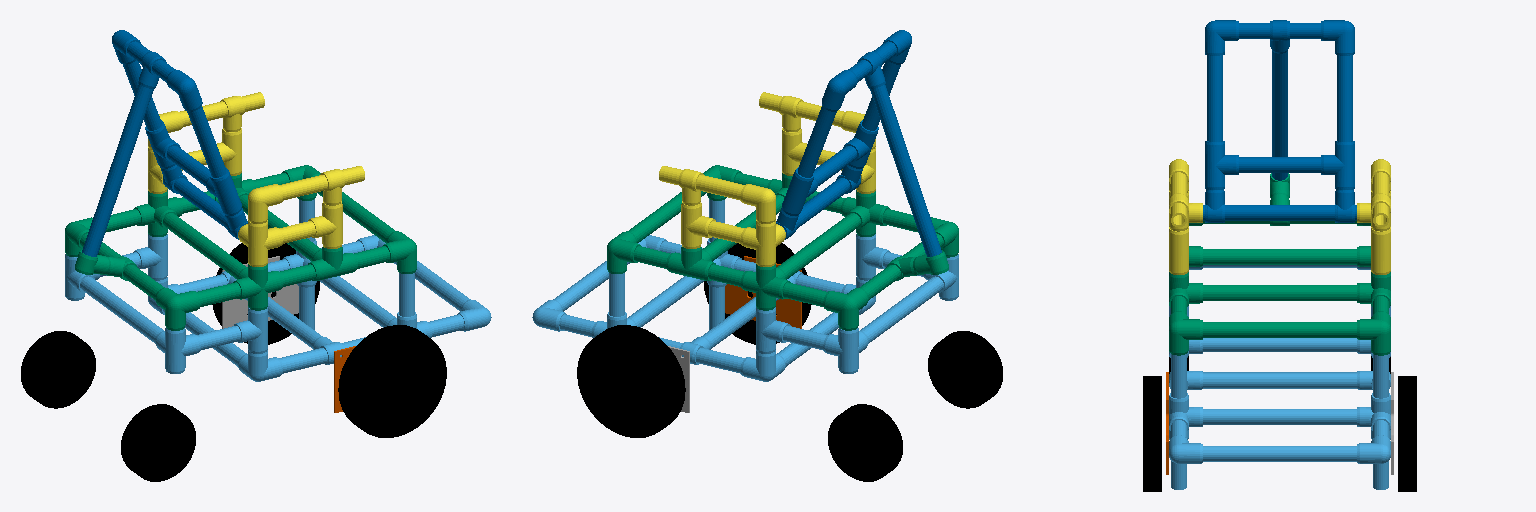
--- Render facts (derived) ---
The picture shows the robot from 3 angles, left to right: view 1: azimuth 30°, elevation 25°; view 2: azimuth 150°, elevation 25°; view 3: azimuth 270°, elevation 25°; orthographic projection.
Model pvcchair with 15 links and 14 joints (6 continuous, 8 fixed), rooted at base_footprint, posed every joint at zero.
Links seen in each view (by area): view 1: base_link, seat_link, back_link, wheel_right, arms_link, caster_right, caster_left, gearbox_plate_left, wheel_left, gearbox_plate_right; view 2: base_link, seat_link, back_link, wheel_left, arms_link, caster_left, caster_right, gearbox_plate_right, wheel_right, gearbox_plate_left; view 3: base_link, back_link, seat_link, arms_link, wheel_right, wheel_left.
Link boxes in pixels (x1,y1,x2,y2): base_link: (65, 199, 491, 381); seat_link: (65, 165, 416, 330); back_link: (82, 30, 247, 256); wheel_right: (338, 325, 446, 437); arms_link: (148, 92, 364, 266); caster_right: (121, 404, 195, 481); caster_left: (21, 331, 95, 408); gearbox_plate_left: (222, 256, 298, 328); wheel_left: (212, 243, 319, 344); gearbox_plate_right: (334, 346, 355, 412); base_link: (532, 199, 958, 381); seat_link: (607, 165, 958, 330); back_link: (776, 30, 941, 256); wheel_left: (577, 325, 685, 437); arms_link: (659, 92, 875, 266); caster_left: (828, 404, 902, 481); caster_right: (928, 331, 1002, 408); gearbox_plate_right: (725, 256, 801, 328); wheel_right: (704, 243, 811, 344); gearbox_plate_left: (668, 346, 689, 412); base_link: (1169, 265, 1390, 489); back_link: (1203, 20, 1356, 222); seat_link: (1169, 173, 1390, 355); arms_link: (1169, 159, 1390, 274); wheel_right: (1143, 376, 1161, 491); wheel_left: (1398, 376, 1416, 491).
Size in the robot's own frame: 0.5602 by 0.3621 by 0.5511 metres.
Meshes: 16 distinct files referenced, 91 mesh visuals loaded (16 Collada DAE).

The robot description file, URDF, robot "pvcchair":
<?xml version="1.0" ?>
<!-- =================================================================================== -->
<!-- |    This document was autogenerated by xacro from [local-path]/pvc-powerchair/software/ros/src/pvcchair_description/urdf/pvcchair.urdf.xacro | -->
<!-- |    EDITING THIS FILE BY HAND IS NOT RECOMMENDED                                 | -->
<!-- =================================================================================== -->
<robot name="pvcchair" xmlns:xacro="http://www.ros.org/wiki/xacro">
  <link name="base_footprint"/>
  <!-- <xacro:property name="gearbox_plate_mesh">
    <mesh filename="package://pvcchair_description/meshes/wheel.dae" />
  </xacro:property> -->
  <!-- <xacro:property name="gearbox_plate_mesh">
    <mesh filename="package://pvcchair_description/meshes/caster.dae" />
  </xacro:property> -->
  <link name="base_link">
    <inertial>
      <mass value="0.045937"/>
      <origin xyz="0 0 0"/>
      <inertia ixx="0.000160" ixy="0.000000" ixz="0.000000" iyy="0.000004" iyz="0.000000" izz="0.000160"/>
    </inertial>
    <visual>
      <origin rpy="0 1.57079632679 1.57079632679" xyz="0 0 0"/>
      <geometry>
        <mesh filename="package://pvcchair_description/meshes/piping/p2_front_n_back_base.dae"/>
      </geometry>
    </visual>
    <collision>
      <origin rpy="0 1.57079632679 1.57079632679" xyz="0 0 0"/>
      <geometry>
        <mesh filename="package://pvcchair_description/meshes/piping/p2_front_n_back_base.dae"/>
      </geometry>
    </collision>
    <visual>
      <origin rpy="0 1.57079632679 0" xyz="0 -0.13335 0"/>
      <geometry>
        <mesh filename="package://pvcchair_description/meshes/connectors/cf_3_way_slip.dae"/>
      </geometry>
    </visual>
    <collision>
      <origin rpy="0 1.57079632679 0" xyz="0 -0.13335 0"/>
      <geometry>
        <mesh filename="package://pvcchair_description/meshes/connectors/cf_3_way_slip.dae"/>
      </geometry>
    </collision>
    <visual>
      <origin rpy="0 1.57079632679 3.14159265359" xyz="0 0.13335 0"/>
      <geometry>
        <mesh filename="package://pvcchair_description/meshes/connectors/cf_3_way_slip.dae"/>
      </geometry>
    </visual>
    <collision>
      <origin rpy="0 1.57079632679 3.14159265359" xyz="0 0.13335 0"/>
      <geometry>
        <mesh filename="package://pvcchair_description/meshes/connectors/cf_3_way_slip.dae"/>
      </geometry>
    </collision>
    <visual>
      <origin rpy="0 1.57079632679 0" xyz="0 -0.13335 0"/>
      <geometry>
        <mesh filename="package://pvcchair_description/meshes/piping/p1_left_n_right_base.dae"/>
      </geometry>
    </visual>
    <collision>
      <origin rpy="0 1.57079632679 0" xyz="0 -0.13335 0"/>
      <geometry>
        <mesh filename="package://pvcchair_description/meshes/piping/p1_left_n_right_base.dae"/>
      </geometry>
    </collision>
    <visual>
      <origin rpy="0 1.57079632679 0" xyz="0 0.13335 0"/>
      <geometry>
        <mesh filename="package://pvcchair_description/meshes/piping/p1_left_n_right_base.dae"/>
      </geometry>
    </visual>
    <collision>
      <origin rpy="0 1.57079632679 0" xyz="0 0.13335 0"/>
      <geometry>
        <mesh filename="package://pvcchair_description/meshes/piping/p1_left_n_right_base.dae"/>
      </geometry>
    </collision>
    <visual>
      <origin rpy="0 0 -1.57079632679" xyz="0.1143 -0.13335 0"/>
      <geometry>
        <mesh filename="package://pvcchair_description/meshes/connectors/cb_5_way_t_connect.dae"/>
      </geometry>
    </visual>
    <collision>
      <origin rpy="0 0 -1.57079632679" xyz="0.1143 -0.13335 0"/>
      <geometry>
        <mesh filename="package://pvcchair_description/meshes/connectors/cb_5_way_t_connect.dae"/>
      </geometry>
    </collision>
    <visual>
      <origin rpy="0 0 1.57079632679" xyz="0.1143 0.13335 0"/>
      <geometry>
        <mesh filename="package://pvcchair_description/meshes/connectors/cb_5_way_t_connect.dae"/>
      </geometry>
    </visual>
    <collision>
      <origin rpy="0 0 1.57079632679" xyz="0.1143 0.13335 0"/>
      <geometry>
        <mesh filename="package://pvcchair_description/meshes/connectors/cb_5_way_t_connect.dae"/>
      </geometry>
    </collision>
    <visual>
      <origin rpy="0 1.57079632679 1.57079632679" xyz="0.1143 0 0"/>
      <geometry>
        <mesh filename="package://pvcchair_description/meshes/piping/p2_front_n_back_base.dae"/>
      </geometry>
    </visual>
    <collision>
      <origin rpy="0 1.57079632679 1.57079632679" xyz="0.1143 0 0"/>
      <geometry>
        <mesh filename="package://pvcchair_description/meshes/piping/p2_front_n_back_base.dae"/>
      </geometry>
    </collision>
    <visual>
      <origin rpy="0 0 0" xyz="0.1143 -0.13335 0.0635"/>
      <geometry>
        <mesh filename="package://pvcchair_description/meshes/piping/p3_left_n_right_back_upright.dae"/>
      </geometry>
    </visual>
    <collision>
      <origin rpy="0 0 0" xyz="0.1143 -0.13335 0.0635"/>
      <geometry>
        <mesh filename="package://pvcchair_description/meshes/piping/p3_left_n_right_back_upright.dae"/>
      </geometry>
    </collision>
    <visual>
      <origin rpy="0 0 0" xyz="0.1143 0.13335 0.0635"/>
      <geometry>
        <mesh filename="package://pvcchair_description/meshes/piping/p3_left_n_right_back_upright.dae"/>
      </geometry>
    </visual>
    <collision>
      <origin rpy="0 0 0" xyz="0.1143 0.13335 0.0635"/>
      <geometry>
        <mesh filename="package://pvcchair_description/meshes/piping/p3_left_n_right_back_upright.dae"/>
      </geometry>
    </collision>
    <visual>
      <origin rpy="0 0 0" xyz="0.1143 -0.13335 -0.05715"/>
      <geometry>
        <mesh filename="package://pvcchair_description/meshes/piping/p4_footrest_base.dae"/>
      </geometry>
    </visual>
    <collision>
      <origin rpy="0 0 0" xyz="0.1143 -0.13335 -0.05715"/>
      <geometry>
        <mesh filename="package://pvcchair_description/meshes/piping/p4_footrest_base.dae"/>
      </geometry>
    </collision>
    <visual>
      <origin rpy="0 0 0" xyz="0.1143 0.13335 -0.05715"/>
      <geometry>
        <mesh filename="package://pvcchair_description/meshes/piping/p4_footrest_base.dae"/>
      </geometry>
    </visual>
    <collision>
      <origin rpy="0 0 0" xyz="0.1143 0.13335 -0.05715"/>
      <geometry>
        <mesh filename="package://pvcchair_description/meshes/piping/p4_footrest_base.dae"/>
      </geometry>
    </collision>
    <visual>
      <origin rpy="0 1.57079632679 0" xyz="0.17145 -0.13335 0"/>
      <geometry>
        <mesh filename="package://pvcchair_description/meshes/piping/p4_footrest_base.dae"/>
      </geometry>
    </visual>
    <collision>
      <origin rpy="0 1.57079632679 0" xyz="0.17145 -0.13335 0"/>
      <geometry>
        <mesh filename="package://pvcchair_description/meshes/piping/p4_footrest_base.dae"/>
      </geometry>
    </collision>
    <visual>
      <origin rpy="0 1.57079632679 0" xyz="0.17145 0.13335 0"/>
      <geometry>
        <mesh filename="package://pvcchair_description/meshes/piping/p4_footrest_base.dae"/>
      </geometry>
    </visual>
    <collision>
      <origin rpy="0 1.57079632679 0" xyz="0.17145 0.13335 0"/>
      <geometry>
        <mesh filename="package://pvcchair_description/meshes/piping/p4_footrest_base.dae"/>
      </geometry>
    </collision>
    <visual>
      <origin rpy="0 -1.57079632679 -1.57079632679" xyz="0.2286 -0.13335 0"/>
      <geometry>
        <mesh filename="package://pvcchair_description/meshes/connectors/cd_2_way_elbow.dae"/>
      </geometry>
    </visual>
    <collision>
      <origin rpy="0 -1.57079632679 -1.57079632679" xyz="0.2286 -0.13335 0"/>
      <geometry>
        <mesh filename="package://pvcchair_description/meshes/connectors/cd_2_way_elbow.dae"/>
      </geometry>
    </collision>
    <visual>
      <origin rpy="0 1.57079632679 -1.57079632679" xyz="0.2286 0.13335 0"/>
      <geometry>
        <mesh filename="package://pvcchair_description/meshes/connectors/cd_2_way_elbow.dae"/>
      </geometry>
    </visual>
    <collision>
      <origin rpy="0 1.57079632679 -1.57079632679" xyz="0.2286 0.13335 0"/>
      <geometry>
        <mesh filename="package://pvcchair_description/meshes/connectors/cd_2_way_elbow.dae"/>
      </geometry>
    </collision>
    <visual>
      <origin rpy="0 1.57079632679 1.57079632679" xyz="0.2286 0 0"/>
      <geometry>
        <mesh filename="package://pvcchair_description/meshes/piping/p2_front_n_back_base.dae"/>
      </geometry>
    </visual>
    <collision>
      <origin rpy="0 1.57079632679 1.57079632679" xyz="0.2286 0 0"/>
      <geometry>
        <mesh filename="package://pvcchair_description/meshes/piping/p2_front_n_back_base.dae"/>
      </geometry>
    </collision>
    <visual>
      <origin rpy="0 0 1.57079632679" xyz="-0.1143 -0.13335 0"/>
      <geometry>
        <mesh filename="package://pvcchair_description/meshes/connectors/cc_3_way_y_connect.dae"/>
      </geometry>
    </visual>
    <collision>
      <origin rpy="0 0 1.57079632679" xyz="-0.1143 -0.13335 0"/>
      <geometry>
        <mesh filename="package://pvcchair_description/meshes/connectors/cc_3_way_y_connect.dae"/>
      </geometry>
    </collision>
    <visual>
      <origin rpy="0 0 0" xyz="-0.1143 0.13335 0"/>
      <geometry>
        <mesh filename="package://pvcchair_description/meshes/connectors/cc_3_way_y_connect.dae"/>
      </geometry>
    </visual>
    <collision>
      <origin rpy="0 0 0" xyz="-0.1143 0.13335 0"/>
      <geometry>
        <mesh filename="package://pvcchair_description/meshes/connectors/cc_3_way_y_connect.dae"/>
      </geometry>
    </collision>
    <visual>
      <origin rpy="0 1.57079632679 1.57079632679" xyz="-0.1143 0 0"/>
      <geometry>
        <mesh filename="package://pvcchair_description/meshes/piping/p2_front_n_back_base.dae"/>
      </geometry>
    </visual>
    <collision>
      <origin rpy="0 1.57079632679 1.57079632679" xyz="-0.1143 0 0"/>
      <geometry>
        <mesh filename="package://pvcchair_description/meshes/piping/p2_front_n_back_base.dae"/>
      </geometry>
    </collision>
    <visual>
      <origin rpy="0 0 0" xyz="-0.1143 -0.13335 0.03175"/>
      <geometry>
        <mesh filename="package://pvcchair_description/meshes/piping/p9_connects_all.dae"/>
      </geometry>
    </visual>
    <collision>
      <origin rpy="0 0 0" xyz="-0.1143 -0.13335 0.03175"/>
      <geometry>
        <mesh filename="package://pvcchair_description/meshes/piping/p9_connects_all.dae"/>
      </geometry>
    </collision>
    <visual>
      <origin rpy="0 0 0" xyz="-0.1143 0.13335 0.03175"/>
      <geometry>
        <mesh filename="package://pvcchair_description/meshes/piping/p9_connects_all.dae"/>
      </geometry>
    </visual>
    <collision>
      <origin rpy="0 0 0" xyz="-0.1143 0.13335 0.03175"/>
      <geometry>
        <mesh filename="package://pvcchair_description/meshes/piping/p9_connects_all.dae"/>
      </geometry>
    </collision>
    <visual>
      <origin rpy="0 0 1.57079632679" xyz="-0.1143 -0.13335 0.0635"/>
      <geometry>
        <mesh filename="package://pvcchair_description/meshes/connectors/ce_3_way_t_connect.dae"/>
      </geometry>
    </visual>
    <collision>
      <origin rpy="0 0 1.57079632679" xyz="-0.1143 -0.13335 0.0635"/>
      <geometry>
        <mesh filename="package://pvcchair_description/meshes/connectors/ce_3_way_t_connect.dae"/>
      </geometry>
    </collision>
    <visual>
      <origin rpy="0 0 1.57079632679" xyz="-0.1143 0.13335 0.0635"/>
      <geometry>
        <mesh filename="package://pvcchair_description/meshes/connectors/ce_3_way_t_connect.dae"/>
      </geometry>
    </visual>
    <collision>
      <origin rpy="0 0 1.57079632679" xyz="-0.1143 0.13335 0.0635"/>
      <geometry>
        <mesh filename="package://pvcchair_description/meshes/connectors/ce_3_way_t_connect.dae"/>
      </geometry>
    </collision>
    <visual>
      <origin rpy="0 0 0" xyz="-0.1143 -0.13335 0.09525"/>
      <geometry>
        <mesh filename="package://pvcchair_description/meshes/piping/p9_connects_all.dae"/>
      </geometry>
    </visual>
    <collision>
      <origin rpy="0 0 0" xyz="-0.1143 -0.13335 0.09525"/>
      <geometry>
        <mesh filename="package://pvcchair_description/meshes/piping/p9_connects_all.dae"/>
      </geometry>
    </collision>
    <visual>
      <origin rpy="0 0 0" xyz="-0.1143 0.13335 0.09525"/>
      <geometry>
        <mesh filename="package://pvcchair_description/meshes/piping/p9_connects_all.dae"/>
      </geometry>
    </visual>
    <collision>
      <origin rpy="0 0 0" xyz="-0.1143 0.13335 0.09525"/>
      <geometry>
        <mesh filename="package://pvcchair_description/meshes/piping/p9_connects_all.dae"/>
      </geometry>
    </collision>
    <visual>
      <origin rpy="0 1.57079632679 0" xyz="-0.1778 -0.13335 0.0635"/>
      <geometry>
        <mesh filename="package://pvcchair_description/meshes/piping/p3_left_n_right_back_upright.dae"/>
      </geometry>
    </visual>
    <collision>
      <origin rpy="0 1.57079632679 0" xyz="-0.1778 -0.13335 0.0635"/>
      <geometry>
        <mesh filename="package://pvcchair_description/meshes/piping/p3_left_n_right_back_upright.dae"/>
      </geometry>
    </collision>
    <visual>
      <origin rpy="0 1.57079632679 0" xyz="-0.1778 0.13335 0.0635"/>
      <geometry>
        <mesh filename="package://pvcchair_description/meshes/piping/p3_left_n_right_back_upright.dae"/>
      </geometry>
    </visual>
    <collision>
      <origin rpy="0 1.57079632679 0" xyz="-0.1778 0.13335 0.0635"/>
      <geometry>
        <mesh filename="package://pvcchair_description/meshes/piping/p3_left_n_right_back_upright.dae"/>
      </geometry>
    </collision>
    <visual>
      <origin rpy="0 0 -1.57079632679" xyz="-0.2413 -0.13335 0.0635"/>
      <geometry>
        <mesh filename="package://pvcchair_description/meshes/connectors/ca_4_way_t_connect.dae"/>
      </geometry>
    </visual>
    <collision>
      <origin rpy="0 0 -1.57079632679" xyz="-0.2413 -0.13335 0.0635"/>
      <geometry>
        <mesh filename="package://pvcchair_description/meshes/connectors/ca_4_way_t_connect.dae"/>
      </geometry>
    </collision>
    <visual>
      <origin rpy="0 0 3.14159265359" xyz="-0.2413 0.13335 0.0635"/>
      <geometry>
        <mesh filename="package://pvcchair_description/meshes/connectors/ca_4_way_t_connect.dae"/>
      </geometry>
    </visual>
    <collision>
      <origin rpy="0 0 3.14159265359" xyz="-0.2413 0.13335 0.0635"/>
      <geometry>
        <mesh filename="package://pvcchair_description/meshes/connectors/ca_4_way_t_connect.dae"/>
      </geometry>
    </collision>
    <visual>
      <origin rpy="0 1.57079632679 1.57079632679" xyz="-0.2413 0 0.0635"/>
      <geometry>
        <mesh filename="package://pvcchair_description/meshes/piping/p2_front_n_back_base.dae"/>
      </geometry>
    </visual>
    <collision>
      <origin rpy="0 1.57079632679 1.57079632679" xyz="-0.2413 0 0.0635"/>
      <geometry>
        <mesh filename="package://pvcchair_description/meshes/piping/p2_front_n_back_base.dae"/>
      </geometry>
    </collision>
    <visual>
      <origin rpy="0 0 0" xyz="-0.2413 -0.13335 0.09525"/>
      <geometry>
        <mesh filename="package://pvcchair_description/meshes/piping/p9_connects_all.dae"/>
      </geometry>
    </visual>
    <collision>
      <origin rpy="0 0 0" xyz="-0.2413 -0.13335 0.09525"/>
      <geometry>
        <mesh filename="package://pvcchair_description/meshes/piping/p9_connects_all.dae"/>
      </geometry>
    </collision>
    <visual>
      <origin rpy="0 0 0" xyz="-0.2413 0.13335 0.09525"/>
      <geometry>
        <mesh filename="package://pvcchair_description/meshes/piping/p9_connects_all.dae"/>
      </geometry>
    </visual>
    <collision>
      <origin rpy="0 0 0" xyz="-0.2413 0.13335 0.09525"/>
      <geometry>
        <mesh filename="package://pvcchair_description/meshes/piping/p9_connects_all.dae"/>
      </geometry>
    </collision>
  </link>
  <link name="seat_link">
    <inertial>
      <mass value="0.045937"/>
      <origin xyz="0 0 0"/>
      <inertia ixx="0.000160" ixy="0.000000" ixz="0.000000" iyy="0.000004" iyz="0.000000" izz="0.000160"/>
    </inertial>
    <visual>
      <origin rpy="0 1.57079632679 1.57079632679" xyz="0 0 0"/>
      <geometry>
        <mesh filename="package://pvcchair_description/meshes/piping/p2_front_n_back_base.dae"/>
      </geometry>
    </visual>
    <collision>
      <origin rpy="0 1.57079632679 1.57079632679" xyz="0 0 0"/>
      <geometry>
        <mesh filename="package://pvcchair_description/meshes/piping/p2_front_n_back_base.dae"/>
      </geometry>
    </collision>
    <visual>
      <origin rpy="0 1.57079632679 0" xyz="0 -0.13335 0"/>
      <geometry>
        <mesh filename="package://pvcchair_description/meshes/connectors/ca_4_way_t_connect.dae"/>
      </geometry>
    </visual>
    <collision>
      <origin rpy="0 1.57079632679 0" xyz="0 -0.13335 0"/>
      <geometry>
        <mesh filename="package://pvcchair_description/meshes/connectors/ca_4_way_t_connect.dae"/>
      </geometry>
    </collision>
    <visual>
      <origin rpy="0 1.57079632679 3.14159265359" xyz="0 0.13335 0"/>
      <geometry>
        <mesh filename="package://pvcchair_description/meshes/connectors/ca_4_way_t_connect.dae"/>
      </geometry>
    </visual>
    <collision>
      <origin rpy="0 1.57079632679 3.14159265359" xyz="0 0.13335 0"/>
      <geometry>
        <mesh filename="package://pvcchair_description/meshes/connectors/ca_4_way_t_connect.dae"/>
      </geometry>
    </collision>
    <visual>
      <origin rpy="0 0 0" xyz="0 -0.13335 0.03175"/>
      <geometry>
        <mesh filename="package://pvcchair_description/meshes/piping/p8_arm_rest_hgt_back_n_arms.dae"/>
      </geometry>
    </visual>
    <collision>
      <origin rpy="0 0 0" xyz="0 -0.13335 0.03175"/>
      <geometry>
        <mesh filename="package://pvcchair_description/meshes/piping/p8_arm_rest_hgt_back_n_arms.dae"/>
      </geometry>
    </collision>
    <visual>
      <origin rpy="0 0 0" xyz="0 0.13335 0.03175"/>
      <geometry>
        <mesh filename="package://pvcchair_description/meshes/piping/p8_arm_rest_hgt_back_n_arms.dae"/>
      </geometry>
    </visual>
    <collision>
      <origin rpy="0 0 0" xyz="0 0.13335 0.03175"/>
      <geometry>
        <mesh filename="package://pvcchair_description/meshes/piping/p8_arm_rest_hgt_back_n_arms.dae"/>
      </geometry>
    </collision>
    <visual>
      <origin rpy="0 1.57079632679 0" xyz="0.05715 -0.13335 0"/>
      <geometry>
        <mesh filename="package://pvcchair_description/meshes/piping/p4_footrest_base.dae"/>
      </geometry>
    </visual>
    <collision>
      <origin rpy="0 1.57079632679 0" xyz="0.05715 -0.13335 0"/>
      <geometry>
        <mesh filename="package://pvcchair_description/meshes/piping/p4_footrest_base.dae"/>
      </geometry>
    </collision>
    <visual>
      <origin rpy="0 1.57079632679 0" xyz="0.05715 0.13335 0"/>
      <geometry>
        <mesh filename="package://pvcchair_description/meshes/piping/p4_footrest_base.dae"/>
      </geometry>
    </visual>
    <collision>
      <origin rpy="0 1.57079632679 0" xyz="0.05715 0.13335 0"/>
      <geometry>
        <mesh filename="package://pvcchair_description/meshes/piping/p4_footrest_base.dae"/>
      </geometry>
    </collision>
    <visual>
      <origin rpy="1.57079632679 0 3.14159265359" xyz="0.1143 -0.13335 0"/>
      <geometry>
        <mesh filename="package://pvcchair_description/meshes/connectors/cc_3_way_y_connect.dae"/>
      </geometry>
    </visual>
    <collision>
      <origin rpy="1.57079632679 0 3.14159265359" xyz="0.1143 -0.13335 0"/>
      <geometry>
        <mesh filename="package://pvcchair_description/meshes/connectors/cc_3_way_y_connect.dae"/>
      </geometry>
    </collision>
    <visual>
      <origin rpy="3.14159265359 0 3.14159265359" xyz="0.1143 0.13335 0"/>
      <geometry>
        <mesh filename="package://pvcchair_description/meshes/connectors/cc_3_way_y_connect.dae"/>
      </geometry>
    </visual>
    <collision>
      <origin rpy="3.14159265359 0 3.14159265359" xyz="0.1143 0.13335 0"/>
      <geometry>
        <mesh filename="package://pvcchair_description/meshes/connectors/cc_3_way_y_connect.dae"/>
      </geometry>
    </collision>
    <visual>
      <origin rpy="0 1.57079632679 1.57079632679" xyz="0.1143 0 0"/>
      <geometry>
        <mesh filename="package://pvcchair_description/meshes/piping/p2_front_n_back_base.dae"/>
      </geometry>
    </visual>
    <collision>
      <origin rpy="0 1.57079632679 1.57079632679" xyz="0.1143 0 0"/>
      <geometry>
        <mesh filename="package://pvcchair_description/meshes/piping/p2_front_n_back_base.dae"/>
      </geometry>
    </collision>
    <visual>
      <origin rpy="0 1.57079632679 0" xyz="-0.05715 -0.13335 0"/>
      <geometry>
        <mesh filename="package://pvcchair_description/meshes/piping/p4_footrest_base.dae"/>
      </geometry>
    </visual>
    <collision>
      <origin rpy="0 1.57079632679 0" xyz="-0.05715 -0.13335 0"/>
      <geometry>
        <mesh filename="package://pvcchair_description/meshes/piping/p4_footrest_base.dae"/>
      </geometry>
    </collision>
    <visual>
      <origin rpy="0 1.57079632679 0" xyz="-0.05715 0.13335 0"/>
      <geometry>
        <mesh filename="package://pvcchair_description/meshes/piping/p4_footrest_base.dae"/>
      </geometry>
    </visual>
    <collision>
      <origin rpy="0 1.57079632679 0" xyz="-0.05715 0.13335 0"/>
      <geometry>
        <mesh filename="package://pvcchair_description/meshes/piping/p4_footrest_base.dae"/>
      </geometry>
    </collision>
    <visual>
      <origin rpy="0 0 -1.57079632679" xyz="-0.1143 -0.13335 0"/>
      <geometry>
        <mesh filename="package://pvcchair_description/meshes/connectors/cb_5_way_t_connect.dae"/>
      </geometry>
    </visual>
    <collision>
      <origin rpy="0 0 -1.57079632679" xyz="-0.1143 -0.13335 0"/>
      <geometry>
        <mesh filename="package://pvcchair_description/meshes/connectors/cb_5_way_t_connect.dae"/>
      </geometry>
    </collision>
    <visual>
      <origin rpy="0 0 1.57079632679" xyz="-0.1143 0.13335 0"/>
      <geometry>
        <mesh filename="package://pvcchair_description/meshes/connectors/cb_5_way_t_connect.dae"/>
      </geometry>
    </visual>
    <collision>
      <origin rpy="0 0 1.57079632679" xyz="-0.1143 0.13335 0"/>
      <geometry>
        <mesh filename="package://pvcchair_description/meshes/connectors/cb_5_way_t_connect.dae"/>
      </geometry>
    </collision>
    <visual>
      <origin rpy="0 1.57079632679 1.57079632679" xyz="-0.1143 0 0"/>
      <geometry>
        <mesh filename="package://pvcchair_description/meshes/piping/p2_front_n_back_base.dae"/>
      </geometry>
    </visual>
    <collision>
      <origin rpy="0 1.57079632679 1.57079632679" xyz="-0.1143 0 0"/>
      <geometry>
        <mesh filename="package://pvcchair_description/meshes/piping/p2_front_n_back_base.dae"/>
      </geometry>
    </collision>
    <visual>
      <origin rpy="0 0 0" xyz="-0.1143 -0.13335 0.03175"/>
      <geometry>
        <mesh filename="package://pvcchair_description/meshes/piping/p8_arm_rest_hgt_back_n_arms.dae"/>
      </geometry>
    </visual>
    <collision>
      <origin rpy="0 0 0" xyz="-0.1143 -0.13335 0.03175"/>
      <geometry>
        <mesh filename="package://pvcchair_description/meshes/piping/p8_arm_rest_hgt_back_n_arms.dae"/>
      </geometry>
    </collision>
    <visual>
      <origin rpy="0 0 0" xyz="-0.1143 0.13335 0.03175"/>
      <geometry>
        <mesh filename="package://pvcchair_description/meshes/piping/p8_arm_rest_hgt_back_n_arms.dae"/>
      </geometry>
    </visual>
    <collision>
      <origin rpy="0 0 0" xyz="-0.1143 0.13335 0.03175"/>
      <geometry>
        <mesh filename="package://pvcchair_description/meshes/piping/p8_arm_rest_hgt_back_n_arms.dae"/>
      </geometry>
    </collision>
    <visual>
      <origin rpy="0 1.57079632679 0" xyz="-0.1778 -0.13335 0"/>
      <geometry>
        <mesh filename="package://pvcchair_description/meshes/piping/p3_left_n_right_back_upright.dae"/>
      </geometry>
    </visual>
    <collision>
      <origin rpy="0 1.57079632679 0" xyz="-0.1778 -0.13335 0"/>
      <geometry>
        <mesh filename="package://pvcchair_description/meshes/piping/p3_left_n_right_back_upright.dae"/>
      </geometry>
    </collision>
    <visual>
      <origin rpy="0 1.57079632679 0" xyz="-0.1778 0.13335 0"/>
      <geometry>
        <mesh filename="package://pvcchair_description/meshes/piping/p3_left_n_right_back_upright.dae"/>
      </geometry>
    </visual>
    <collision>
      <origin rpy="0 1.57079632679 0" xyz="-0.1778 0.13335 0"/>
      <geometry>
        <mesh filename="package://pvcchair_description/meshes/piping/p3_left_n_right_back_upright.dae"/>
      </geometry>
    </collision>
    <visual>
      <origin rpy="3.14159265359 0 0" xyz="-0.2413 -0.13335 0"/>
      <geometry>
        <mesh filename="package://pvcchair_description/meshes/connectors/cc_3_way_y_connect.dae"/>
      </geometry>
    </visual>
    <collision>
      <origin rpy="3.14159265359 0 0" xyz="-0.2413 -0.13335 0"/>
      <geometry>
        <mesh filename="package://pvcchair_description/meshes/connectors/cc_3_way_y_connect.dae"/>
      </geometry>
    </collision>
    <visual>
      <origin rpy="1.57079632679 0 0" xyz="-0.2413 0.13335 0"/>
      <geometry>
        <mesh filename="package://pvcchair_description/meshes/connectors/cc_3_way_y_connect.dae"/>
      </geometry>
    </visual>
    <collision>
      <origin rpy="1.57079632679 0 0" xyz="-0.2413 0.13335 0"/>
      <geometry>
        <mesh filename="package://pvcchair_description/meshes/connectors/cc_3_way_y_connect.dae"/>
      </geometry>
    </collision>
    <visual>
      <origin rpy="0 1.57079632679 1.57079632679" xyz="-0.2413 0 0"/>
      <geometry>
        <mesh filename="package://pvcchair_description/meshes/piping/p2_front_n_back_base.dae"/>
      </geometry>
    </visual>
    <collision>
      <origin rpy="0 1.57079632679 1.57079632679" xyz="-0.2413 0 0"/>
      <geometry>
        <mesh filename="package://pvcchair_description/meshes/piping/p2_front_n_back_base.dae"/>
      </geometry>
    </collision>
    <visual>
      <origin rpy="1.57079632679 -1.21300383014 0" xyz="-0.2413 0 0"/>
      <geometry>
        <mesh filename="package://pvcchair_description/meshes/connectors/cf_3_way_slip.dae"/>
      </geometry>
    </visual>
    <collision>
      <origin rpy="1.57079632679 -1.21300383014 0" xyz="-0.2413 0 0"/>
      <geometry>
        <mesh filename="package://pvcchair_description/meshes/connectors/cf_3_way_slip.dae"/>
      </geometry>
    </collision>
    <visual>
      <origin rpy="0 1.92858882345 0" xyz="-0.271039342009 0 0.011119084355"/>
      <geometry>
        <mesh filename="package://pvcchair_description/meshes/piping/p9_connects_all.dae"/>
      </geometry>
    </visual>
    <collision>
      <origin rpy="0 1.92858882345 0" xyz="-0.271039342009 0 0.011119084355"/>
      <geometry>
        <mesh filename="package://pvcchair_description/meshes/piping/p9_connects_all.dae"/>
      </geometry>
    </collision>
    <visual>
      <origin rpy="-0.357792496659 0 -1.57079632679" xyz="-0.300778684017 0 0.02223816871"/>
      <geometry>
        <mesh filename="package://pvcchair_description/meshes/connectors/cf_3_way_slip.dae"/>
      </geometry>
    </visual>
    <collision>
      <origin rpy="-0.357792496659 0 -1.57079632679" xyz="-0.300778684017 0 0.02223816871"/>
      <geometry>
        <mesh filename="package://pvcchair_description/meshes/connectors/cf_3_way_slip.dae"/>
      </geometry>
    </collision>
  </link>
  <link name="arms_link">
    <inertial>
      <mass value="0.045937"/>
      <origin xyz="0 0 0"/>
      <inertia ixx="0.000160" ixy="0.000000" ixz="0.000000" iyy="0.000004" iyz="0.000000" izz="0.000160"/>
    </inertial>
    <visual>
      <origin rpy="0 0 -1.57079632679" xyz="0 -0.13335 0"/>
      <geometry>
        <mesh filename="package://pvcchair_description/meshes/connectors/ca_4_way_t_connect.dae"/>
      </geometry>
    </visual>
    <collision>
      <origin rpy="0 0 -1.57079632679" xyz="0 -0.13335 0"/>
      <geometry>
        <mesh filename="package://pvcchair_description/meshes/connectors/ca_4_way_t_connect.dae"/>
      </geometry>
    </collision>
    <visual>
      <origin rpy="0 0 3.14159265359" xyz="0 0.13335 0"/>
      <geometry>
        <mesh filename="package://pvcchair_description/meshes/connectors/ca_4_way_t_connect.dae"/>
      </geometry>
    </visual>
    <collision>
      <origin rpy="0 0 3.14159265359" xyz="0 0.13335 0"/>
      <geometry>
        <mesh filename="package://pvcchair_description/meshes/connectors/ca_4_way_t_connect.dae"/>
      </geometry>
    </collision>
    <visual>
      <origin rpy="0 1.57079632679 0" xyz="0.05715 -0.13335 0"/>
      <geometry>
        <mesh filename="package://pvcchair_description/meshes/piping/p4_footrest_base.dae"/>
      </geometry>
    </visual>
    <collision>
      <origin rpy="0 1.57079632679 0" xyz="0.05715 -0.13335 0"/>
      <geometry>
        <mesh filename="package://pvcchair_description/meshes/piping/p4_footrest_base.dae"/>
      </geometry>
    </collision>
    <visual>
      <origin rpy="0 1.57079632679 0" xyz="0.05715 0.13335 0"/>
      <geometry>
        <mesh filename="package://pvcchair_description/meshes/piping/p4_footrest_base.dae"/>
      </geometry>
    </visual>
    <collision>
      <origin rpy="0 1.57079632679 0" xyz="0.05715 0.13335 0"/>
      <geometry>
        <mesh filename="package://pvcchair_description/meshes/piping/p4_footrest_base.dae"/>
      </geometry>
    </collision>
    <visual>
      <origin rpy="0 0 1.57079632679" xyz="0.1143 -0.13335 0"/>
      <geometry>
        <mesh filename="package://pvcchair_description/meshes/connectors/ce_3_way_t_connect.dae"/>
      </geometry>
    </visual>
    <collision>
      <origin rpy="0 0 1.57079632679" xyz="0.1143 -0.13335 0"/>
      <geometry>
        <mesh filename="package://pvcchair_description/meshes/connectors/ce_3_way_t_connect.dae"/>
      </geometry>
    </collision>
    <visual>
      <origin rpy="0 0 1.57079632679" xyz="0.1143 0.13335 0"/>
      <geometry>
        <mesh filename="package://pvcchair_description/meshes/connectors/ce_3_way_t_connect.dae"/>
      </geometry>
    </visual>
    <collision>
      <origin rpy="0 0 1.57079632679" xyz="0.1143 0.13335 0"/>
      <geometry>
        <mesh filename="package://pvcchair_description/meshes/connectors/ce_3_way_t_connect.dae"/>
      </geometry>
    </collision>
    <visual>
      <origin rpy="0 0 0" xyz="0 -0.13335 0.03175"/>
      <geometry>
        <mesh filename="package://pvcchair_description/meshes/piping/p8_arm_rest_hgt_back_n_arms.dae"/>
      </geometry>
    </visual>
    <collision>
      <origin rpy="0 0 0" xyz="0 -0.13335 0.03175"/>
      <geometry>
        <mesh filename="package://pvcchair_description/meshes/piping/p8_arm_rest_hgt_back_n_arms.dae"/>
      </geometry>
    </collision>
    <visual>
      <origin rpy="0 0 0" xyz="0 0.13335 0.03175"/>
      <geometry>
        <mesh filename="package://pvcchair_description/meshes/piping/p8_arm_rest_hgt_back_n_arms.dae"/>
      </geometry>
    </visual>
    <collision>
      <origin rpy="0 0 0" xyz="0 0.13335 0.03175"/>
      <geometry>
        <mesh filename="package://pvcchair_description/meshes/piping/p8_arm_rest_hgt_back_n_arms.dae"/>
      </geometry>
    </collision>
    <visual>
      <origin rpy="0 0 0" xyz="0.1143 -0.13335 0.03175"/>
      <geometry>
        <mesh filename="package://pvcchair_description/meshes/piping/p8_arm_rest_hgt_back_n_arms.dae"/>
      </geometry>
    </visual>
    <collision>
      <origin rpy="0 0 0" xyz="0.1143 -0.13335 0.03175"/>
      <geometry>
        <mesh filename="package://pvcchair_description/meshes/piping/p8_arm_rest_hgt_back_n_arms.dae"/>
      </geometry>
    </collision>
    <visual>
      <origin rpy="0 0 0" xyz="0.1143 0.13335 0.03175"/>
      <geometry>
        <mesh filename="package://pvcchair_description/meshes/piping/p8_arm_rest_hgt_back_n_arms.dae"/>
      </geometry>
    </visual>
    <collision>
      <origin rpy="0 0 0" xyz="0.1143 0.13335 0.03175"/>
      <geometry>
        <mesh filename="package://pvcchair_description/meshes/piping/p8_arm_rest_hgt_back_n_arms.dae"/>
      </geometry>
    </collision>
    <visual>
      <origin rpy="1.57079632679 0 1.57079632679" xyz="0 -0.13335 0.0635"/>
      <geometry>
        <mesh filename="package://pvcchair_description/meshes/connectors/cd_2_way_elbow.dae"/>
      </geometry>
    </visual>
    <collision>
      <origin rpy="1.57079632679 0 1.57079632679" xyz="0 -0.13335 0.0635"/>
      <geometry>
        <mesh filename="package://pvcchair_description/meshes/connectors/cd_2_way_elbow.dae"/>
      </geometry>
    </collision>
    <visual>
      <origin rpy="1.57079632679 0 1.57079632679" xyz="0 0.13335 0.0635"/>
      <geometry>
        <mesh filename="package://pvcchair_description/meshes/connectors/cd_2_way_elbow.dae"/>
      </geometry>
    </visual>
    <collision>
      <origin rpy="1.57079632679 0 1.57079632679" xyz="0 0.13335 0.0635"/>
      <geometry>
        <mesh filename="package://pvcchair_description/meshes/connectors/cd_2_way_elbow.dae"/>
      </geometry>
    </collision>
    <visual>
      <origin rpy="-1.57079632679 0 1.57079632679" xyz="0.1143 -0.13335 0.0635"/>
      <geometry>
        <mesh filename="package://pvcchair_description/meshes/connectors/cf_3_way_slip.dae"/>
      </geometry>
    </visual>
    <collision>
      <origin rpy="-1.57079632679 0 1.57079632679" xyz="0.1143 -0.13335 0.0635"/>
      <geometry>
        <mesh filename="package://pvcchair_description/meshes/connectors/cf_3_way_slip.dae"/>
      </geometry>
    </collision>
    <visual>
      <origin rpy="-1.57079632679 0 1.57079632679" xyz="0.1143 0.13335 0.0635"/>
      <geometry>
        <mesh filename="package://pvcchair_description/meshes/connectors/cf_3_way_slip.dae"/>
      </geometry>
    </visual>
    <collision>
      <origin rpy="-1.57079632679 0 1.57079632679" xyz="0.1143 0.13335 0.0635"/>
      <geometry>
        <mesh filename="package://pvcchair_description/meshes/connectors/cf_3_way_slip.dae"/>
      </geometry>
    </collision>
    <visual>
      <origin rpy="0 1.57079632679 0" xyz="0.085725 -0.13335 0.0635"/>
      <geometry>
        <mesh filename="package://pvcchair_description/meshes/piping/p6_back_rest_horz.dae"/>
      </geometry>
    </visual>
    <collision>
      <origin rpy="0 1.57079632679 0" xyz="0.085725 -0.13335 0.0635"/>
      <geometry>
        <mesh filename="package://pvcchair_description/meshes/piping/p6_back_rest_horz.dae"/>
      </geometry>
    </collision>
    <visual>
      <origin rpy="0 1.57079632679 0" xyz="0.085725 0.13335 0.0635"/>
      <geometry>
        <mesh filename="package://pvcchair_description/meshes/piping/p6_back_rest_horz.dae"/>
      </geometry>
    </visual>
    <collision>
      <origin rpy="0 1.57079632679 0" xyz="0.085725 0.13335 0.0635"/>
      <geometry>
        <mesh filename="package://pvcchair_description/meshes/piping/p6_back_rest_horz.dae"/>
      </geometry>
    </collision>
  </link>
  <link name="back_link">
    <inertial>
      <mass value="0.045937"/>
      <origin xyz="0 0 0"/>
      <inertia ixx="0.000160" ixy="0.000000" ixz="0.000000" iyy="0.000004" iyz="0.000000" izz="0.000160"/>
    </inertial>
    <visual>
      <origin rpy="0 1.57079632679 1.57079632679" xyz="0 0 0"/>
      <geometry>
        <mesh filename="package://pvcchair_description/meshes/piping/p2_front_n_back_base.dae"/>
      </geometry>
    </visual>
    <collision>
      <origin rpy="0 1.57079632679 1.57079632679" xyz="0 0 0"/>
      <geometry>
        <mesh filename="package://pvcchair_description/meshes/piping/p2_front_n_back_base.dae"/>
      </geometry>
    </collision>
    <visual>
      <origin rpy="1.57079632679 -0.349065850399 0" xyz="0 -0.085725 0"/>
      <geometry>
        <mesh filename="package://pvcchair_description/meshes/connectors/cf_3_way_slip.dae"/>
      </geometry>
    </visual>
    <collision>
      <origin rpy="1.57079632679 -0.349065850399 0" xyz="0 -0.085725 0"/>
      <geometry>
        <mesh filename="package://pvcchair_description/meshes/connectors/cf_3_way_slip.dae"/>
      </geometry>
    </collision>
    <visual>
      <origin rpy="1.57079632679 -0.349065850399 0" xyz="0 0.085725 0"/>
      <geometry>
        <mesh filename="package://pvcchair_description/meshes/connectors/cf_3_way_slip.dae"/>
      </geometry>
    </visual>
    <collision>
      <origin rpy="1.57079632679 -0.349065850399 0" xyz="0 0.085725 0"/>
      <geometry>
        <mesh filename="package://pvcchair_description/meshes/connectors/cf_3_way_slip.dae"/>
      </geometry>
    </collision>
    <visual>
      <origin rpy="0 -0.349065850399 0" xyz="-0.0108591395506 -0.085725 0.02983524071"/>
      <geometry>
        <mesh filename="package://pvcchair_description/meshes/piping/p9_connects_all.dae"/>
      </geometry>
    </visual>
    <collision>
      <origin rpy="0 -0.349065850399 0" xyz="-0.0108591395506 -0.085725 0.02983524071"/>
      <geometry>
        <mesh filename="package://pvcchair_description/meshes/piping/p9_connects_all.dae"/>
      </geometry>
    </collision>
    <visual>
      <origin rpy="0 -0.349065850399 0" xyz="-0.0108591395506 0.085725 0.02983524071"/>
      <geometry>
        <mesh filename="package://pvcchair_description/meshes/piping/p9_connects_all.dae"/>
      </geometry>
    </visual>
    <collision>
      <origin rpy="0 -0.349065850399 0" xyz="-0.0108591395506 0.085725 0.02983524071"/>
      <geometry>
        <mesh filename="package://pvcchair_description/meshes/piping/p9_connects_all.dae"/>
      </geometry>
    </collision>
    <visual>
      <origin rpy="0 -0.349065850399 0" xyz="-0.0217182791012 -0.085725 0.0596704814199"/>
      <geometry>
        <mesh filename="package://pvcchair_description/meshes/connectors/ce_3_way_t_connect.dae"/>
      </geometry>
    </visual>
    <collision>
      <origin rpy="0 -0.349065850399 0" xyz="-0.0217182791012 -0.085725 0.0596704814199"/>
      <geometry>
        <mesh filename="package://pvcchair_description/meshes/connectors/ce_3_way_t_connect.dae"/>
      </geometry>
    </collision>
    <visual>
      <origin rpy="0 0.349065850399 3.14159265359" xyz="-0.0217182791012 0.085725 0.0596704814199"/>
      <geometry>
        <mesh filename="package://pvcchair_description/meshes/connectors/ce_3_way_t_connect.dae"/>
      </geometry>
    </visual>
    <collision>
      <origin rpy="0 0.349065850399 3.14159265359" xyz="-0.0217182791012 0.085725 0.0596704814199"/>
      <geometry>
        <mesh filename="package://pvcchair_description/meshes/connectors/ce_3_way_t_connect.dae"/>
      </geometry>
    </collision>
    <visual>
      <origin rpy="0 1.57079632679 1.57079632679" xyz="-0.0217182791012 0 0.0596704814199"/>
      <geometry>
        <mesh filename="package://pvcchair_description/meshes/piping/p6_back_rest_horz.dae"/>
      </geometry>
    </visual>
    <collision>
      <origin rpy="0 1.57079632679 1.57079632679" xyz="-0.0217182791012 0 0.0596704814199"/>
      <geometry>
        <mesh filename="package://pvcchair_description/meshes/piping/p6_back_rest_horz.dae"/>
      </geometry>
    </collision>
    <visual>
      <origin rpy="0 -0.349065850399 0" xyz="-0.0521238698428 -0.085725 0.143209155408"/>
      <geometry>
        <mesh filename="package://pvcchair_description/meshes/piping/p5_back_rest_vert.dae"/>
      </geometry>
    </visual>
    <collision>
      <origin rpy="0 -0.349065850399 0" xyz="-0.0521238698428 -0.085725 0.143209155408"/>
      <geometry>
        <mesh filename="package://pvcchair_description/meshes/piping/p5_back_rest_vert.dae"/>
      </geometry>
    </collision>
    <visual>
      <origin rpy="0 -0.349065850399 0" xyz="-0.0521238698428 0.085725 0.143209155408"/>
      <geometry>
        <mesh filename="package://pvcchair_description/meshes/piping/p5_back_rest_vert.dae"/>
      </geometry>
    </visual>
    <collision>
      <origin rpy="0 -0.349065850399 0" xyz="-0.0521238698428 0.085725 0.143209155408"/>
      <geometry>
        <mesh filename="package://pvcchair_description/meshes/piping/p5_back_rest_vert.dae"/>
      </geometry>
    </collision>
    <visual>
      <origin rpy="3.14159265359 -0.349065850399 0" xyz="-0.0825294605845 -0.085725 0.226747829396"/>
      <geometry>
        <mesh filename="package://pvcchair_description/meshes/connectors/cd_2_way_elbow.dae"/>
      </geometry>
    </visual>
    <collision>
      <origin rpy="3.14159265359 -0.349065850399 0" xyz="-0.0825294605845 -0.085725 0.226747829396"/>
      <geometry>
        <mesh filename="package://pvcchair_description/meshes/connectors/cd_2_way_elbow.dae"/>
      </geometry>
    </collision>
    <visual>
      <origin rpy="1.57079632679 -0.349065850399 0" xyz="-0.0825294605845 0.085725 0.226747829396"/>
      <geometry>
        <mesh filename="package://pvcchair_description/meshes/connectors/cd_2_way_elbow.dae"/>
      </geometry>
    </visual>
    <collision>
      <origin rpy="1.57079632679 -0.349065850399 0" xyz="-0.0825294605845 0.085725 0.226747829396"/>
      <geometry>
        <mesh filename="package://pvcchair_description/meshes/connectors/cd_2_way_elbow.dae"/>
      </geometry>
    </collision>
    <visual>
      <origin rpy="0 1.57079632679 1.57079632679" xyz="-0.0825294605845 0 0.226747829396"/>
      <geometry>
        <mesh filename="package://pvcchair_description/meshes/piping/p6_back_rest_horz.dae"/>
      </geometry>
    </visual>
    <collision>
      <origin rpy="0 1.57079632679 1.57079632679" xyz="-0.0825294605845 0 0.226747829396"/>
      <geometry>
        <mesh filename="package://pvcchair_description/meshes/piping/p6_back_rest_horz.dae"/>
      </geometry>
    </collision>
    <visual>
      <origin rpy="1.57079632679 -2.77158285217 0" xyz="-0.0825294605845 0 0.226747829396"/>
      <geometry>
        <mesh filename="package://pvcchair_description/meshes/connectors/cf_3_way_slip.dae"/>
      </geometry>
    </visual>
    <collision>
      <origin rpy="1.57079632679 -2.77158285217 0" xyz="-0.0825294605845 0 0.226747829396"/>
      <geometry>
        <mesh filename="package://pvcchair_description/meshes/connectors/cf_3_way_slip.dae"/>
      </geometry>
    </collision>
    <visual>
      <origin rpy="0 0.370009801423 0" xyz="-0.138789203075 0 0.0817015540215"/>
      <geometry>
        <mesh filename="package://pvcchair_description/meshes/piping/p7_adjusting_pipe_horz.dae"/>
      </geometry>
    </visual>
    <collision>
      <origin rpy="0 0.370009801423 0" xyz="-0.138789203075 0 0.0817015540215"/>
      <geometry>
        <mesh filename="package://pvcchair_description/meshes/piping/p7_adjusting_pipe_horz.dae"/>
      </geometry>
    </collision>
  </link>
  <link name="gearbox_plate_right">
    <inertial>
      <mass value="0.080099"/>
      <origin xyz="-0.072510 0.001500 0.049147"/>
      <inertia ixx="0.000051" ixy="0.000000" ixz="0.000017" iyy="0.000150" iyz="0.000000" izz="0.000099"/>
    </inertial>
    <visual>
      <origin rpy="0 0 0" xyz="0 0 0"/>
      <geometry>
        <mesh filename="package://pvcchair_description/meshes/gearbox_plate.dae"/>
      </geometry>
    </visual>
    <collision>
      <origin rpy="0 0 0" xyz="0 0 0"/>
      <geometry>
        <mesh filename="package://pvcchair_description/meshes/gearbox_plate.dae"/>
      </geometry>
    </collision>
  </link>
  <link name="wheel_axle_right"/>
  <joint name="plate_wheel_right_joint" type="fixed">
    <origin rpy="0 0 0" xyz="-0.052 0 -0.054"/>
    <parent link="gearbox_plate_right"/>
    <child link="wheel_axle_right"/>
  </joint>
  <link name="gearbox_plate_left">
    <inertial>
      <mass value="0.080099"/>
      <origin xyz="-0.072510 0.001500 0.049147"/>
      <inertia ixx="0.000051" ixy="0.000000" ixz="0.000017" iyy="0.000150" iyz="0.000000" izz="0.000099"/>
    </inertial>
    <visual>
      <origin rpy="0 0 0" xyz="0 0 0"/>
      <geometry>
        <mesh filename="package://pvcchair_description/meshes/gearbox_plate.dae"/>
      </geometry>
    </visual>
    <collision>
      <origin rpy="0 0 0" xyz="0 0 0"/>
      <geometry>
        <mesh filename="package://pvcchair_description/meshes/gearbox_plate.dae"/>
      </geometry>
    </collision>
  </link>
  <link name="wheel_axle_left"/>
  <joint name="plate_wheel_left_joint" type="fixed">
    <origin rpy="0 0 0" xyz="-0.052 0 -0.054"/>
    <parent link="gearbox_plate_left"/>
    <child link="wheel_axle_left"/>
  </joint>
  <link name="wheel_right">
    <inertial>
      <mass value="0.020000"/>
      <origin xyz="0 0 0"/>
      <inertia ixx="0.000030" ixy="0.000000" ixz="0.000000" iyy="0.000030" iyz="0.000000" izz="0.000058"/>
    </inertial>
    <visual>
      <origin rpy="1.57079632679 0 0" xyz="0 0 0"/>
      <geometry>
        <cylinder length="0.0254" radius="0.0762"/>
      </geometry>
      <material name="Black">
        <color rgba="0 0 0 1"/>
      </material>
    </visual>
    <collision>
      <origin rpy="1.57079632679 0 0" xyz="0 0 0"/>
      <geometry>
        <cylinder length="0.0254" radius="0.0762"/>
      </geometry>
    </collision>
  </link>
  <link name="wheel_left">
    <inertial>
      <mass value="0.020000"/>
      <origin xyz="0 0 0"/>
      <inertia ixx="0.000030" ixy="0.000000" ixz="0.000000" iyy="0.000030" iyz="0.000000" izz="0.000058"/>
    </inertial>
    <visual>
      <origin rpy="1.57079632679 0 0" xyz="0 0 0"/>
      <geometry>
        <cylinder length="0.0254" radius="0.0762"/>
      </geometry>
      <material name="Black">
        <color rgba="0 0 0 1"/>
      </material>
    </visual>
    <collision>
      <origin rpy="1.57079632679 0 0" xyz="0 0 0"/>
      <geometry>
        <cylinder length="0.0254" radius="0.0762"/>
      </geometry>
    </collision>
  </link>
  <!-- Casters -->
  <link name="swivel_right"/>
  <link name="swivel_left"/>
  <link name="caster_right">
    <inertial>
      <mass value="0.040000"/>
      <origin xyz="0 0 0"/>
      <inertia ixx="0.000060" ixy="0.000000" ixz="0.000000" iyy="0.000060" iyz="0.000000" izz="0.000116"/>
    </inertial>
    <visual>
      <origin rpy="1.57079632679 0 0" xyz="0 0 0"/>
      <geometry>
        <cylinder length="0.0254" radius="0.0508"/>
      </geometry>
      <material name="Black">
        <color rgba="0 0 0 1"/>
      </material>
    </visual>
    <collision>
      <origin rpy="1.57079632679 0 0" xyz="0 0 0"/>
      <geometry>
        <cylinder length="0.0254" radius="0.0508"/>
      </geometry>
    </collision>
  </link>
  <link name="caster_left">
    <inertial>
      <mass value="0.040000"/>
      <origin xyz="0 0 0"/>
      <inertia ixx="0.000060" ixy="0.000000" ixz="0.000000" iyy="0.000060" iyz="0.000000" izz="0.000116"/>
    </inertial>
    <visual>
      <origin rpy="1.57079632679 0 0" xyz="0 0 0"/>
      <geometry>
        <cylinder length="0.0254" radius="0.0508"/>
      </geometry>
      <material name="Black">
        <color rgba="0 0 0 1"/>
      </material>
    </visual>
    <collision>
      <origin rpy="1.57079632679 0 0" xyz="0 0 0"/>
      <geometry>
        <cylinder length="0.0254" radius="0.0508"/>
      </geometry>
    </collision>
  </link>
  <joint name="base_joint" type="fixed">
    <origin rpy="0 0 0" xyz="0 0 0.12"/>
    <parent link="base_footprint"/>
    <child link="base_link"/>
  </joint>
  <joint name="seat_joint" type="fixed">
    <origin rpy="0 0 0" xyz="0 0 0.127"/>
    <parent link="base_link"/>
    <child link="seat_link"/>
  </joint>
  <joint name="arms_joint" type="fixed">
    <origin rpy="0 0 0" xyz="-0.1143 0 0.0635"/>
    <parent link="seat_link"/>
    <child link="arms_link"/>
  </joint>
  <joint name="back_joint" type="fixed">
    <origin rpy="0 0 0" xyz="0 0 0"/>
    <parent link="arms_link"/>
    <child link="back_link"/>
  </joint>
  <joint name="gearbox_plate_right_joint" type="fixed">
    <origin rpy="0 0 0" xyz="0.1243 -0.14835 0.01"/>
    <parent link="base_link"/>
    <child link="gearbox_plate_right"/>
  </joint>
  <joint name="gearbox_plate_left_joint" type="fixed">
    <origin rpy="0 0 0" xyz="0.1243 0.14835 0.01"/>
    <parent link="base_link"/>
    <child link="gearbox_plate_left"/>
  </joint>
  <joint name="wheel_right_joint" type="continuous">
    <axis xyz="0 1 0"/>
    <origin rpy="0 0 0" xyz="0 -0.02 0"/>
    <parent link="wheel_axle_right"/>
    <child link="wheel_right"/>
  </joint>
  <joint name="wheel_left_joint" type="continuous">
    <axis xyz="0 1 0"/>
    <origin rpy="0 0 0" xyz="0 +0.02 0"/>
    <parent link="wheel_axle_left"/>
    <child link="wheel_left"/>
  </joint>
  <joint name="swivel_right_joint" type="continuous">
    <axis xyz="0 0 1"/>
    <origin rpy="0 0 0" xyz="-0.2213 -0.13335 0.0508"/>
    <parent link="base_link"/>
    <child link="swivel_right"/>
  </joint>
  <joint name="swivel_left_joint" type="continuous">
    <axis xyz="0 0 1"/>
    <origin rpy="0 0 0" xyz="-0.2213 0.13335 0.0508"/>
    <parent link="base_link"/>
    <child link="swivel_left"/>
  </joint>
  <joint name="caster_right_joint" type="continuous">
    <axis xyz="0 1 0"/>
    <origin rpy="0 0 0" xyz="-0.0458 0 -0.12"/>
    <parent link="swivel_right"/>
    <child link="caster_right"/>
  </joint>
  <joint name="caster_left_joint" type="continuous">
    <axis xyz="0 1 0"/>
    <origin rpy="0 0 0" xyz="-0.0458 0 -0.12"/>
    <parent link="swivel_left"/>
    <child link="caster_left"/>
  </joint>
</robot>
